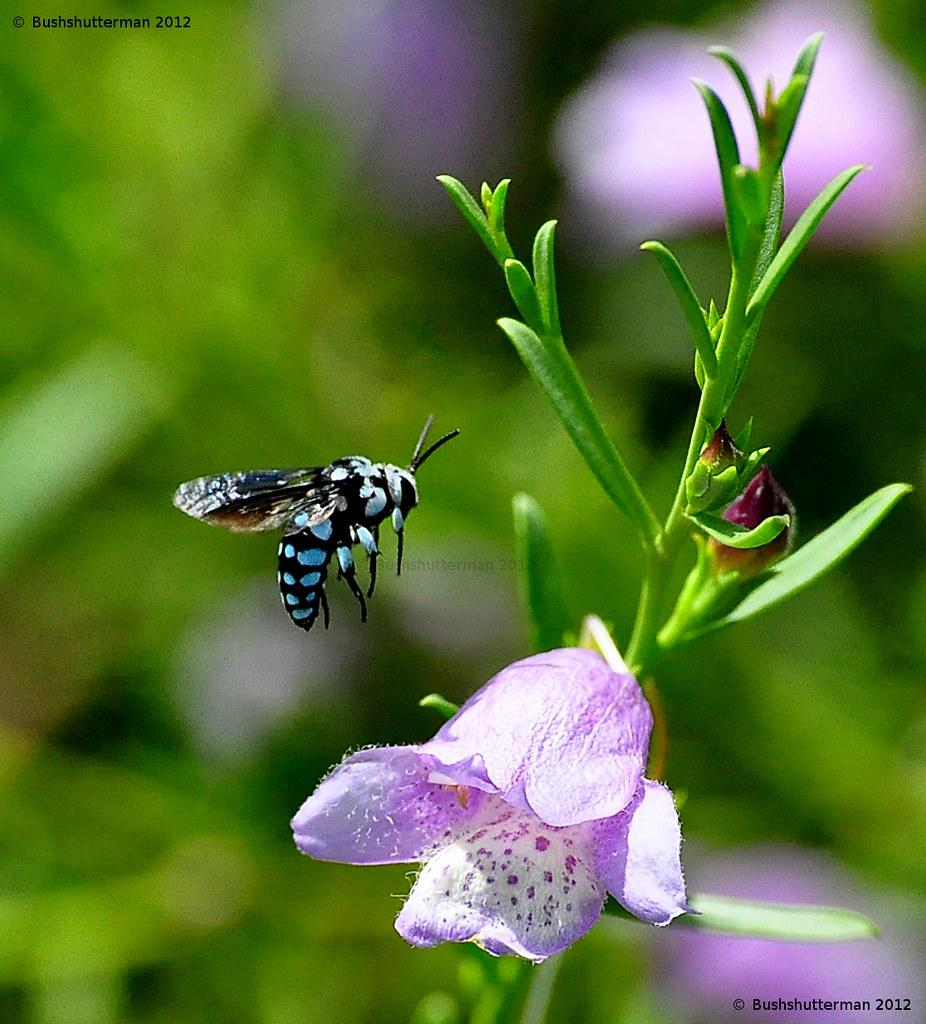Thyreus: (170, 410, 465, 642)
